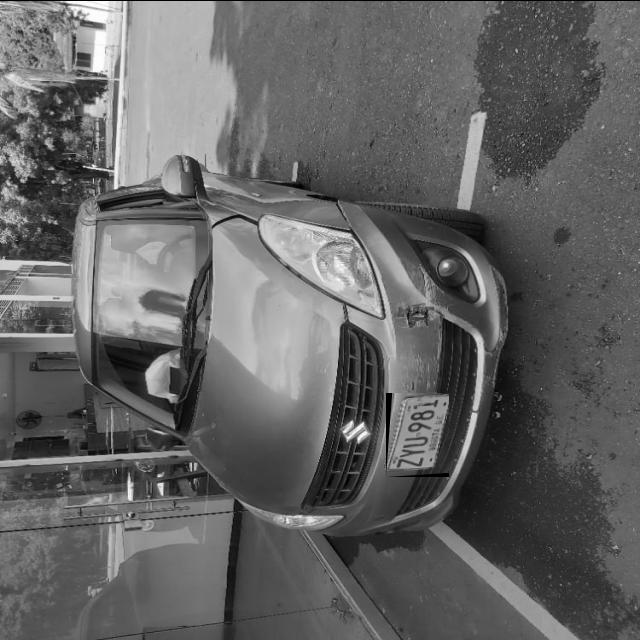plate: (386, 392, 449, 476)
